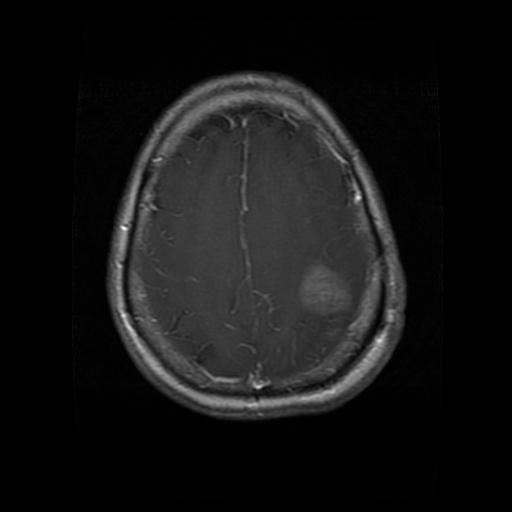glioma: (299, 258, 356, 319)
